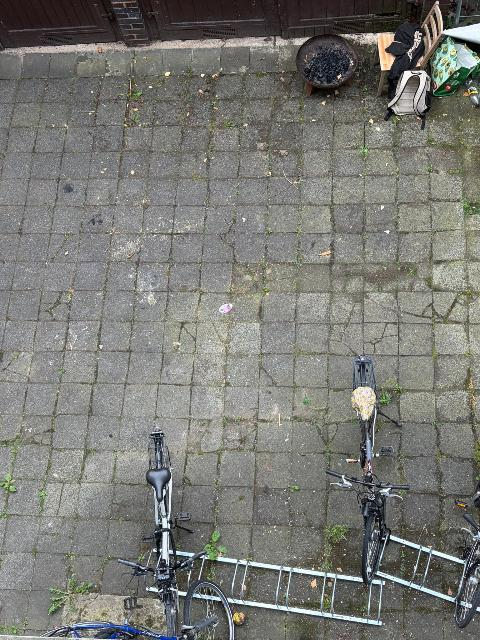can: (219, 303, 232, 314)
plastic_bottle: (464, 78, 480, 107)
